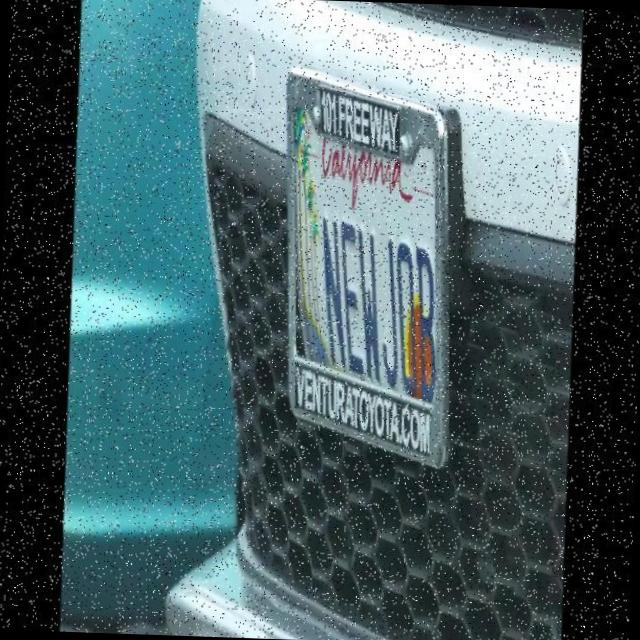LicensePlate: (272, 71, 466, 472)
